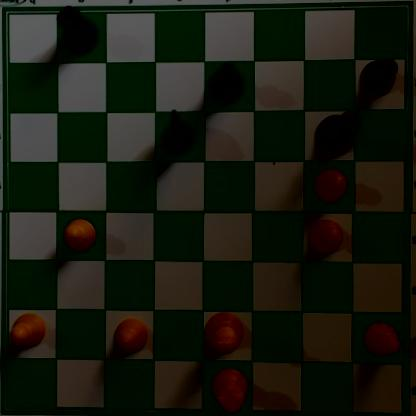black-bishop: (203, 62, 246, 108)
black-king: (313, 109, 361, 156)
black-knight: (160, 107, 197, 159)
black-pawn: (358, 56, 398, 96)
black-rook: (53, 1, 101, 56)
white-king: (202, 310, 245, 355)
white-pawn: (106, 316, 149, 352), (308, 165, 347, 204), (306, 217, 346, 255), (7, 310, 47, 347), (62, 216, 100, 254), (361, 322, 401, 358)
white-rook: (210, 362, 251, 416)
